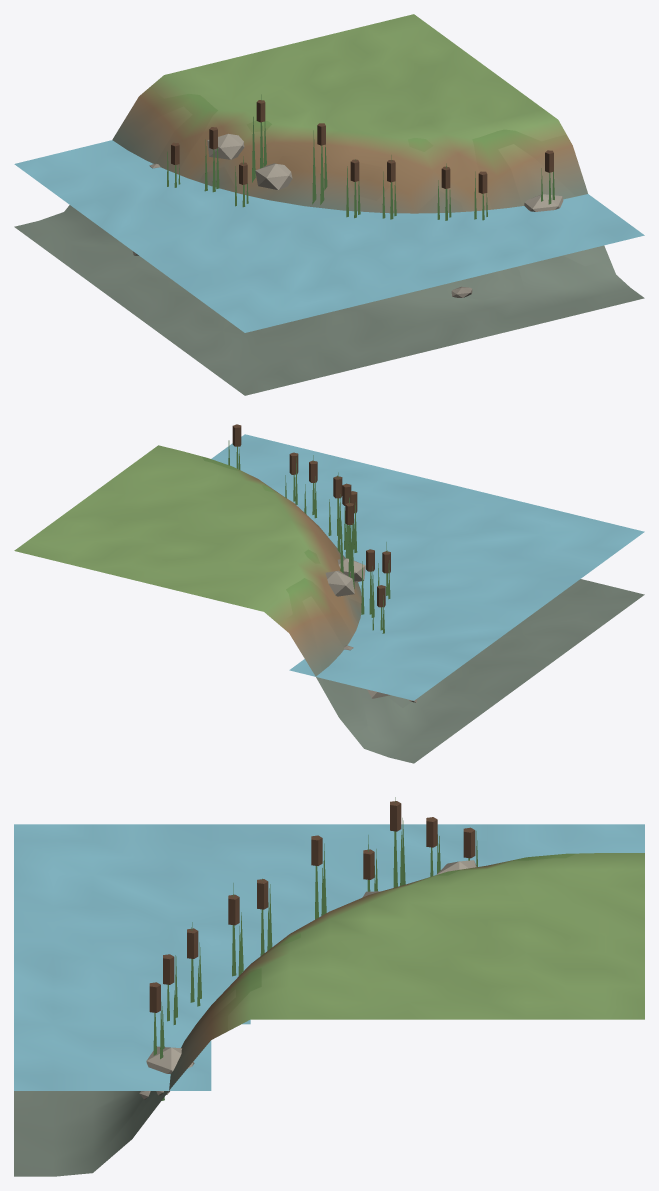
Rendered from bank.curve_inner.glb.
3 views of the same model, one above another, from view 1: azimuth 30°, elevation 25°; view 2: azimuth 150°, elevation 25°; view 3: azimuth 270°, elevation 25° (orthographic). The views are drawn at different scales.
Visible parts, largest first — view 1: bank.curve_inner.v0.land, bank.curve_inner.v1.land, bank.curve_inner.v0.water, bank.curve_inner.v2.land; view 2: bank.curve_inner.v0.water, bank.curve_inner.v0.land, bank.curve_inner.v1.land, bank.curve_inner.v2.land; view 3: bank.curve_inner.v0.water, bank.curve_inner.v0.land, bank.curve_inner.v1.land, bank.curve_inner.v2.land.
Part boxes in pixels (x1,y1,x2,y2): bank.curve_inner.v0.land: (120,14,609,299); bank.curve_inner.v1.land: (14,87,644,395); bank.curve_inner.v0.water: (14,140,644,332); bank.curve_inner.v2.land: (207,133,563,211); bank.curve_inner.v0.water: (211,434,644,700); bank.curve_inner.v0.land: (14,445,416,735); bank.curve_inner.v1.land: (201,424,644,763); bank.curve_inner.v2.land: (325,558,389,698); bank.curve_inner.v0.water: (14,824,644,1090); bank.curve_inner.v0.land: (109,853,644,1158); bank.curve_inner.v1.land: (14,797,575,1176); bank.curve_inner.v2.land: (146,860,476,1073).
Bounding box in the file's own units: 2 × 0.7755 × 2.
